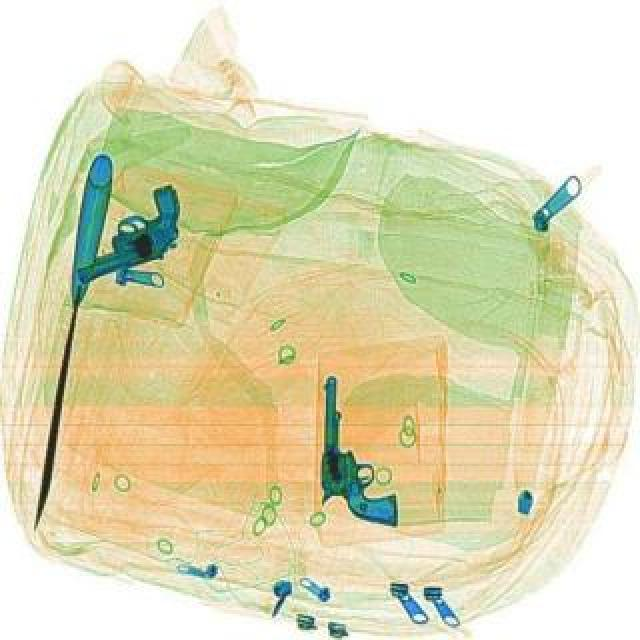gun: (52, 180, 200, 284), (316, 372, 404, 524)
knife: (18, 150, 118, 530)
